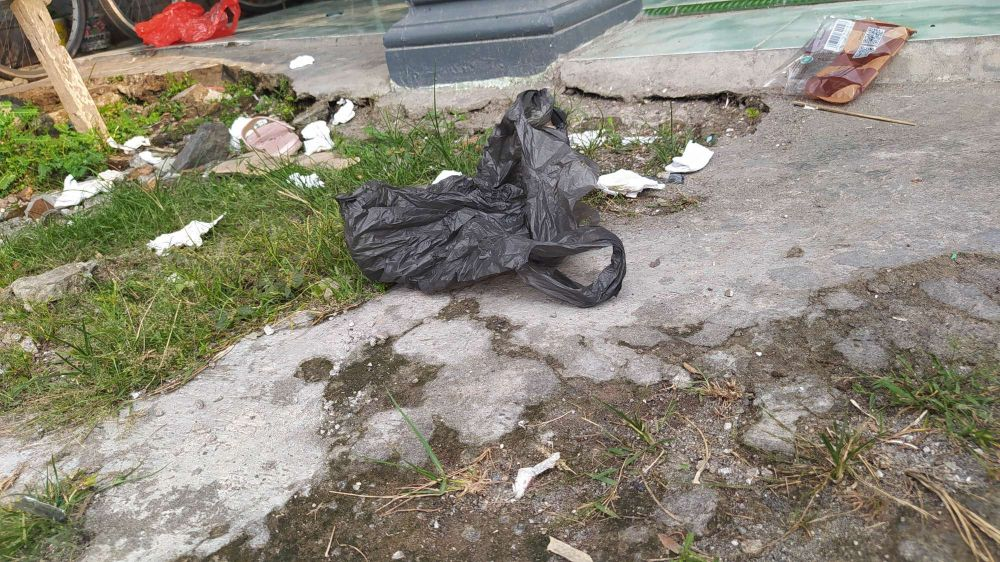plastik: (353, 108, 637, 312), (138, 208, 243, 271), (594, 150, 663, 214), (46, 158, 123, 209), (658, 132, 724, 189), (285, 115, 335, 161)
